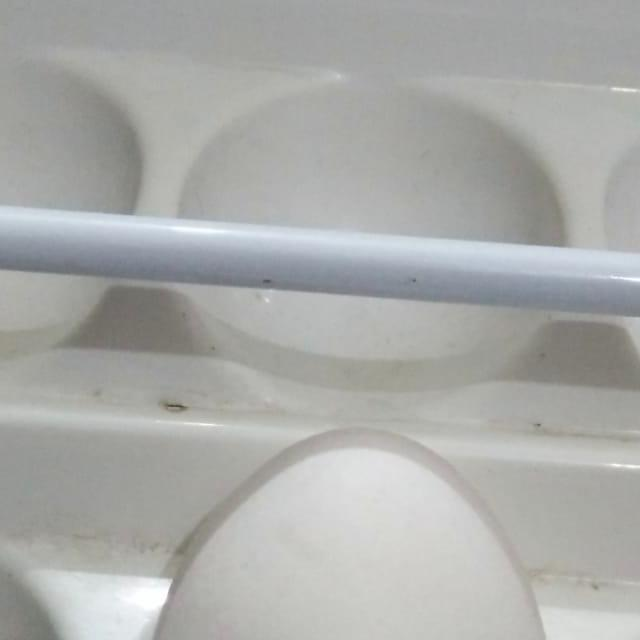egg: (91, 397, 578, 640)
